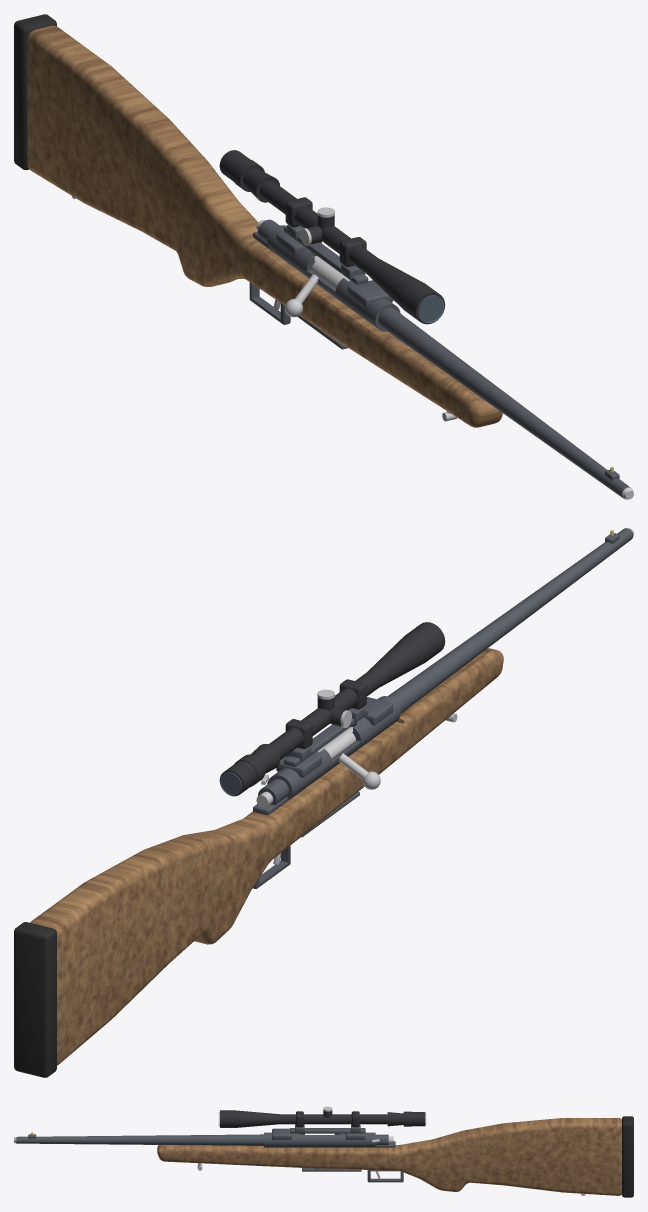
File: KOTM_HuntingRifle.glb
3 renders of one model, top to bottom at view 1: azimuth 30°, elevation 25°; view 2: azimuth 150°, elevation 25°; view 3: azimuth 270°, elevation 25°, orthographic. The views are drawn at different scales.
Parts seen in each view (by area): view 1: HuntingRifle__Stock, HuntingRifle__Barrel, HuntingRifle__RecoilPad, HuntingRifle__Receiver, HuntingRifle__ScopeTube, HuntingRifle__ObjBell, HuntingRifle__Objective, HuntingRifle__ReceiverBridge, HuntingRifle__ScopeRail; view 2: HuntingRifle__Stock, HuntingRifle__RecoilPad, HuntingRifle__Barrel, HuntingRifle__Receiver, HuntingRifle__ScopeTube, HuntingRifle__Objective, HuntingRifle__OcularBell; view 3: HuntingRifle__Stock, HuntingRifle__Barrel, HuntingRifle__Receiver, HuntingRifle__ScopeTube, HuntingRifle__RecoilPad, HuntingRifle__Objective, HuntingRifle__ScopeRail, HuntingRifle__TriggerGuard, HuntingRifle__ObjBell, HuntingRifle__Ocular, HuntingRifle__ReceiverBridge, HuntingRifle__OcularBell (+1 smaller).
Boxes of the visible parts, x1=… form: HuntingRifle__Stock: x1=27, y1=25, x2=502, y2=427; HuntingRifle__Barrel: x1=378, y1=307, x2=630, y2=497; HuntingRifle__RecoilPad: x1=14, y1=14, x2=56, y2=170; HuntingRifle__Receiver: x1=267, y1=225, x2=400, y2=331; HuntingRifle__ScopeTube: x1=259, y1=180, x2=376, y2=272; HuntingRifle__ObjBell: x1=400, y1=281, x2=445, y2=324; HuntingRifle__Objective: x1=364, y1=257, x2=421, y2=309; HuntingRifle__ReceiverBridge: x1=347, y1=280, x2=393, y2=308; HuntingRifle__ScopeRail: x1=284, y1=226, x2=368, y2=284; HuntingRifle__Stock: x1=30, y1=648, x2=503, y2=1065; HuntingRifle__RecoilPad: x1=14, y1=922, x2=56, y2=1077; HuntingRifle__Barrel: x1=388, y1=528, x2=633, y2=713; HuntingRifle__Receiver: x1=267, y1=696, x2=400, y2=800; HuntingRifle__ScopeTube: x1=269, y1=671, x2=380, y2=759; HuntingRifle__Objective: x1=367, y1=633, x2=429, y2=687; HuntingRifle__OcularBell: x1=219, y1=761, x2=256, y2=796; HuntingRifle__Stock: x1=157, y1=1118, x2=621, y2=1195; HuntingRifle__Barrel: x1=16, y1=1134, x2=263, y2=1145; HuntingRifle__Receiver: x1=264, y1=1132, x2=375, y2=1147; HuntingRifle__ScopeTube: x1=280, y1=1114, x2=387, y2=1124; HuntingRifle__RecoilPad: x1=622, y1=1116, x2=633, y2=1197; HuntingRifle__Objective: x1=236, y1=1110, x2=279, y2=1127; HuntingRifle__ScopeRail: x1=290, y1=1128, x2=365, y2=1133; HuntingRifle__TriggerGuard: x1=367, y1=1170, x2=403, y2=1182; HuntingRifle__ObjBell: x1=220, y1=1110, x2=235, y2=1127; HuntingRifle__Ocular: x1=387, y1=1112, x2=403, y2=1126; HuntingRifle__ReceiverBridge: x1=272, y1=1128, x2=291, y2=1139; HuntingRifle__OcularBell: x1=411, y1=1112, x2=425, y2=1126.
Bounding box in the file's own units: 0.078 × 0.1912 × 1.24.
7 materials, 1 textured.
